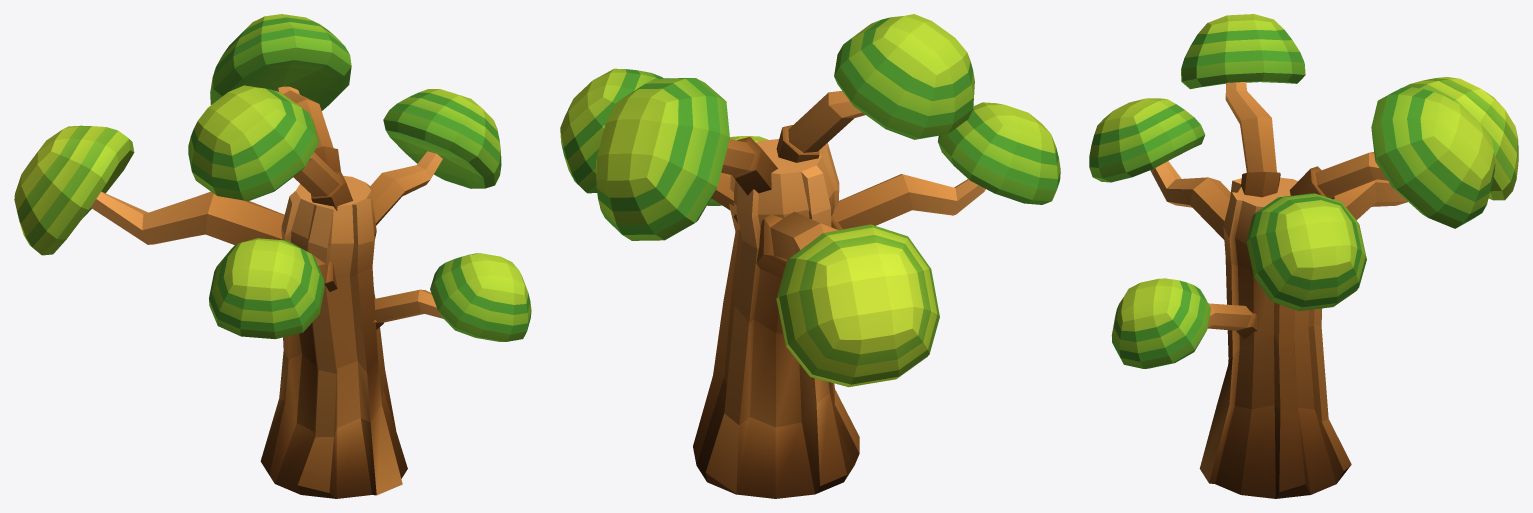
Rendered from Tree_Small_B.fbx.
3 renders of one model, left to right at view 1: azimuth 30°, elevation 25°; view 2: azimuth 150°, elevation 25°; view 3: azimuth 270°, elevation 25°, orthographic. The views are drawn at different scales.
Parts seen in each view (by area): view 1: Tree_Small_B; view 2: Tree_Small_B; view 3: Tree_Small_B.
Part boxes in pixels (left/top/right/bottom): Tree_Small_B: left=14, top=14, right=531, bottom=498; Tree_Small_B: left=560, top=14, right=1060, bottom=498; Tree_Small_B: left=1089, top=14, right=1518, bottom=498.
Size of the model in its own units: 168 by 166 by 160.
